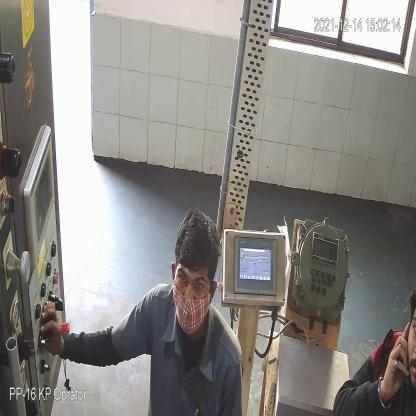no_goggles: (175, 268, 209, 300)
